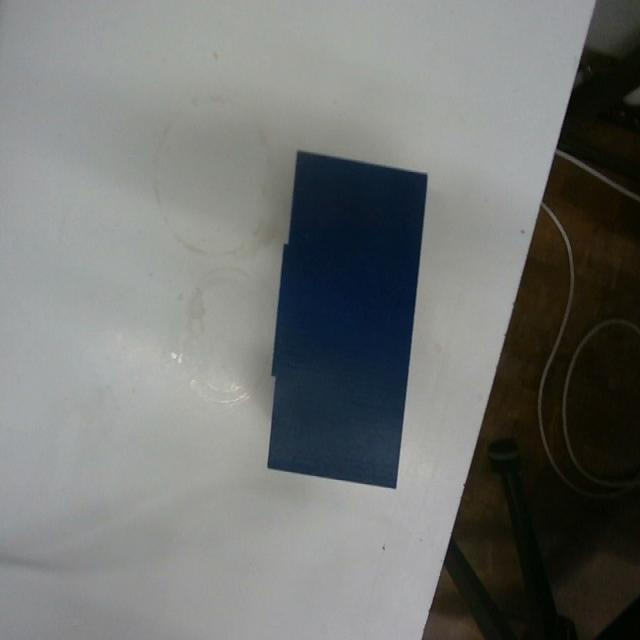Blue Cuboid: (265, 145, 429, 491)
